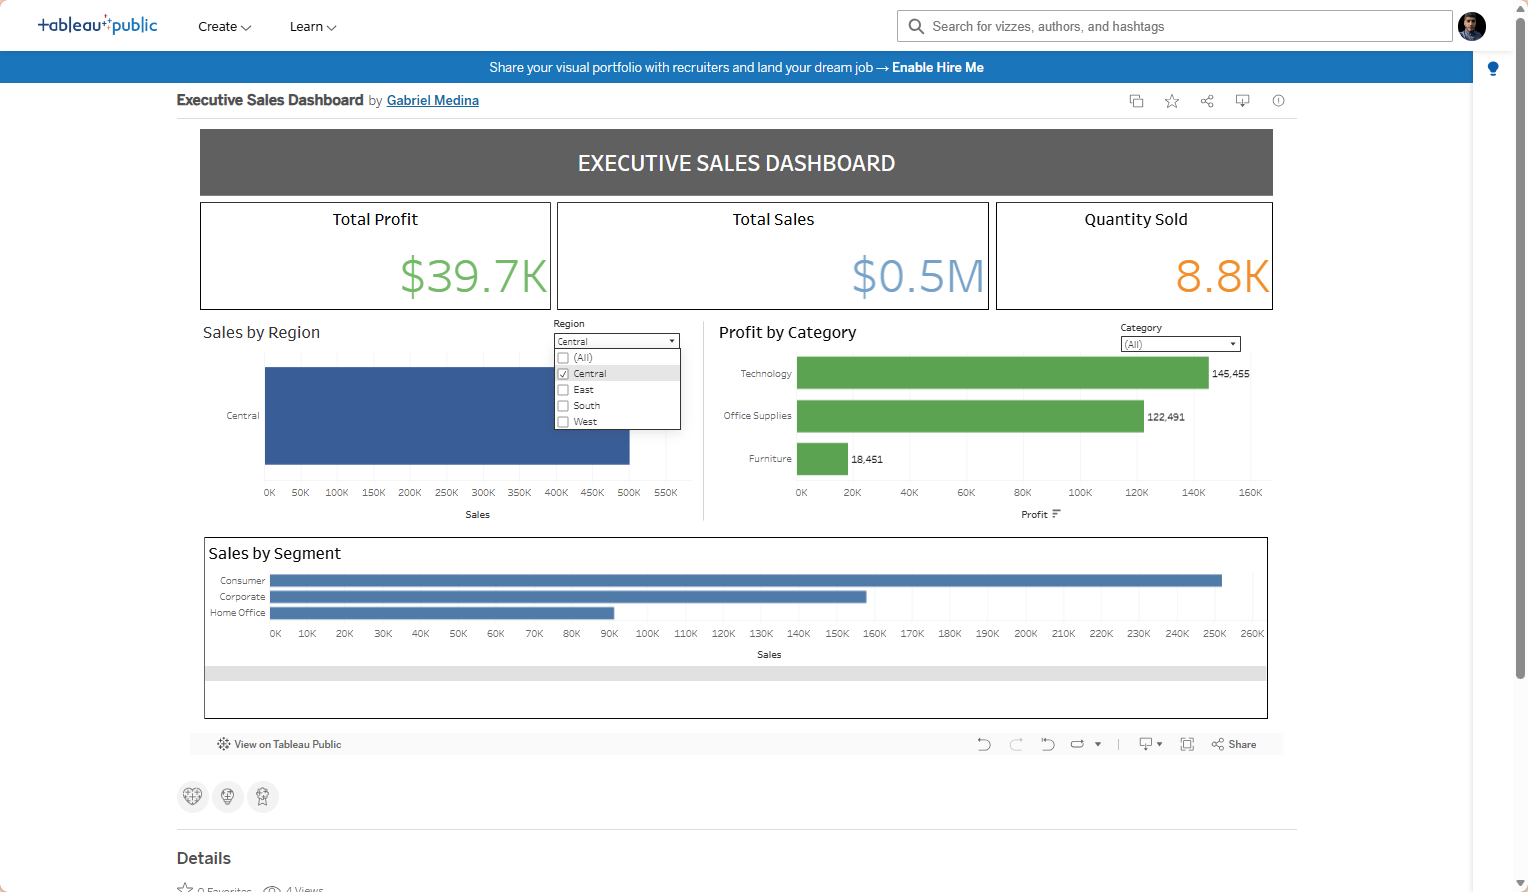

The dashboard page shown, as its layout file describes it:
{"tool":"tableau","page":{"name":"Executive Sales Dashboard","canvas":[1366,768],"ordinal":0},"visuals":[{"type":"text","box":[8,8,1350,92]},{"type":"worksheet","title":"Total Profit","mark":"Automatic","box":[8,100,447,143]},{"type":"worksheet","title":"Total Sales","mark":"Automatic","box":[455,100,548,143]},{"type":"worksheet","title":" Total Quantity Sold","mark":"Automatic","box":[1003,100,355,143]},{"type":"worksheet","title":"Sales by Region","mark":"Automatic","rows":["Region"],"cols":["Sales"],"box":[8,243,623,269]},{"type":"blank","box":[631,243,22,269]},{"type":"worksheet","title":"Profit by Category","mark":"Automatic","rows":["Category"],"cols":["Profit"],"box":[653,243,705,269]},{"type":"filter","title":"Sales by Region","param":"[federated.1sfr99a00z5zcu17smlmt0039s0n].[none:Region:nk]","box":[454,248,160,44]},{"type":"filter","title":"Profit by Category","param":"[federated.1sfr99a00z5zcu17smlmt0039s0n].[none:Category:nk]","box":[1159,248,160,52]},{"type":"worksheet","title":"Sales by Segment","mark":"Automatic","rows":["Segment"],"cols":["Sales"],"box":[8,512,1350,248]}]}

Visuals, with their boxes on the page's 1366x768 design canvas (x1, y1, x2, y2). These are canvas units, not pixel positions in the 1528x892 screenshot, which may show the page scaled, cropped or inside an application window:
text: (x1=8, y1=8, x2=1358, y2=100)
"Total Profit" worksheet: (x1=8, y1=100, x2=455, y2=243)
"Total Sales" worksheet: (x1=455, y1=100, x2=1003, y2=243)
" Total Quantity Sold" worksheet: (x1=1003, y1=100, x2=1358, y2=243)
"Sales by Region" worksheet: (x1=8, y1=243, x2=631, y2=512)
blank: (x1=631, y1=243, x2=653, y2=512)
"Profit by Category" worksheet: (x1=653, y1=243, x2=1358, y2=512)
"Sales by Region" filter: (x1=454, y1=248, x2=614, y2=292)
"Profit by Category" filter: (x1=1159, y1=248, x2=1319, y2=300)
"Sales by Segment" worksheet: (x1=8, y1=512, x2=1358, y2=760)
